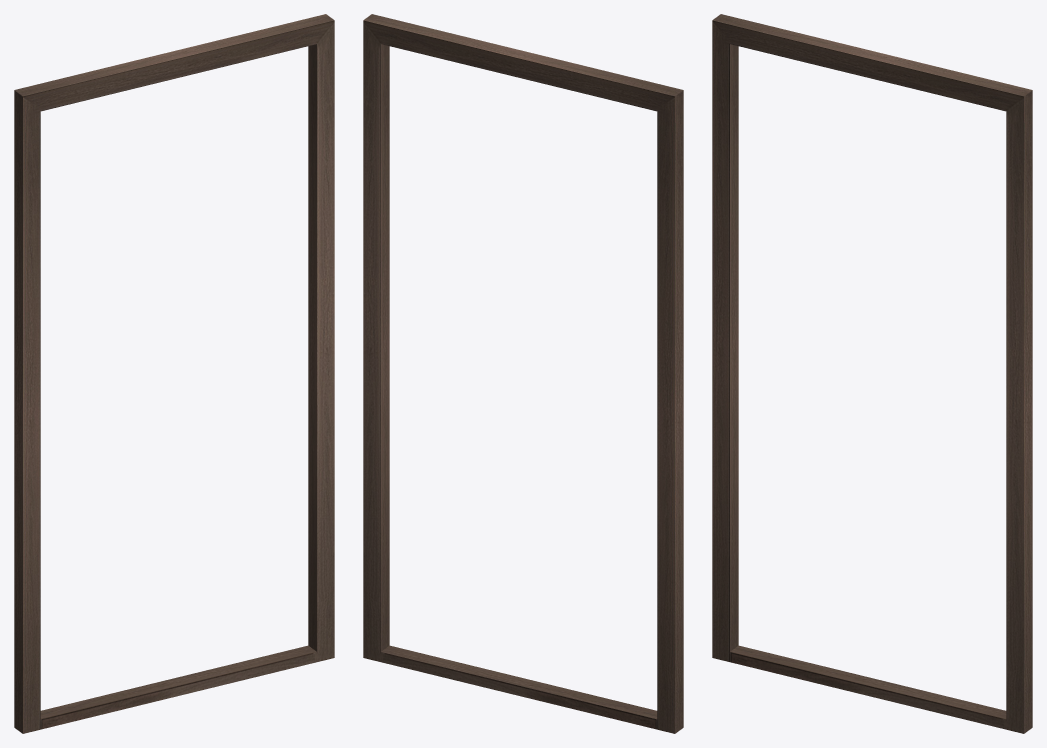
File: Door05Frame.FBX
3 views of the same model, side by side, from view 1: azimuth 30°, elevation 25°; view 2: azimuth 150°, elevation 25°; view 3: azimuth 330°, elevation 25° (orthographic).
Visible parts, largest first — view 1: Door05Frame; view 2: Door05Frame; view 3: Door05Frame.
Part boxes in pixels (x1,y1,x2,y2): Door05Frame: [14, 14, 334, 733]; Door05Frame: [363, 14, 683, 733]; Door05Frame: [712, 14, 1032, 733].
Bounding box in the file's own units: 44.42 × 86.76 × 2.17.
